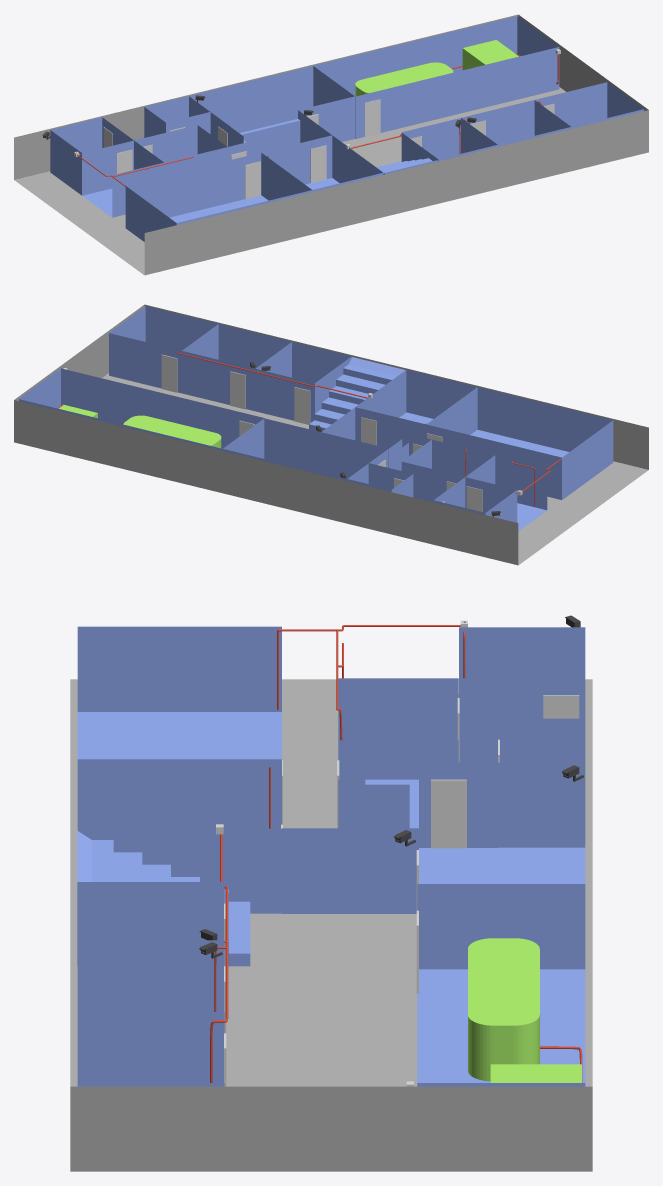
Rendered from Bekami_l1.glb.
3 views of the same model, one above another, from view 1: azimuth 30°, elevation 25°; view 2: azimuth 150°, elevation 25°; view 3: azimuth 270°, elevation 25° (orthographic). The views are drawn at different scales.
Visible parts, largest first — view 1: lantai_1, R9, R4, DP, R5, R1, Cube.007, R2, R6, R8, R3, R7 (+8 smaller); view 2: lantai_1, R4, R9, R5, R8, R7, DP, R6, R1, R3, TANGGA, R9_Meja (+9 smaller); view 3: lantai_1, R4, R5, R9, R6, DP, Cube.007, R2, R7, R9_Meja, R1, TANGGA (+6 smaller).
Boxes of the visible parts, left/top/right/bottom form: lantai_1: left=14, top=14, right=648, bottom=275; R9: left=313, top=16, right=559, bottom=138; R4: left=125, top=152, right=312, bottom=241; DP: left=189, top=66, right=354, bottom=146; R5: left=261, top=135, right=383, bottom=200; R1: left=82, top=140, right=164, bottom=217; Cube.007: left=227, top=110, right=331, bottom=160; R2: left=50, top=117, right=133, bottom=195; R6: left=401, top=118, right=497, bottom=161; R8: left=535, top=82, right=643, bottom=128; R3: left=134, top=125, right=227, bottom=175; R7: left=461, top=100, right=571, bottom=146; lantai_1: left=14, top=304, right=648, bottom=565; R4: left=426, top=387, right=613, bottom=499; R9: left=19, top=368, right=264, bottom=458; R5: left=355, top=369, right=477, bottom=448; R8: left=109, top=306, right=217, bottom=393; R7: left=182, top=324, right=291, bottom=411; DP: left=222, top=418, right=388, bottom=483; R6: left=255, top=342, right=351, bottom=422; R1: left=465, top=455, right=547, bottom=531; R3: left=401, top=439, right=494, bottom=502; TANGGA: left=309, top=357, right=405, bottom=431; R9_Meja: left=123, top=415, right=221, bottom=448; lantai_1: left=70, top=679, right=592, bottom=1171; R4: left=77, top=626, right=281, bottom=759; R5: left=77, top=759, right=281, bottom=913; R9: left=417, top=884, right=585, bottom=1086; R6: left=77, top=882, right=224, bottom=1011; DP: left=419, top=762, right=585, bottom=883; Cube.007: left=282, top=762, right=418, bottom=913; R2: left=459, top=627, right=585, bottom=762; R7: left=77, top=1012, right=224, bottom=1082; R9_Meja: left=468, top=938, right=539, bottom=1081; R1: left=338, top=678, right=458, bottom=740; TANGGA: left=77, top=831, right=250, bottom=966.
Bounding box in the file's own units: 8.89 × 0.7509 × 3.98.
